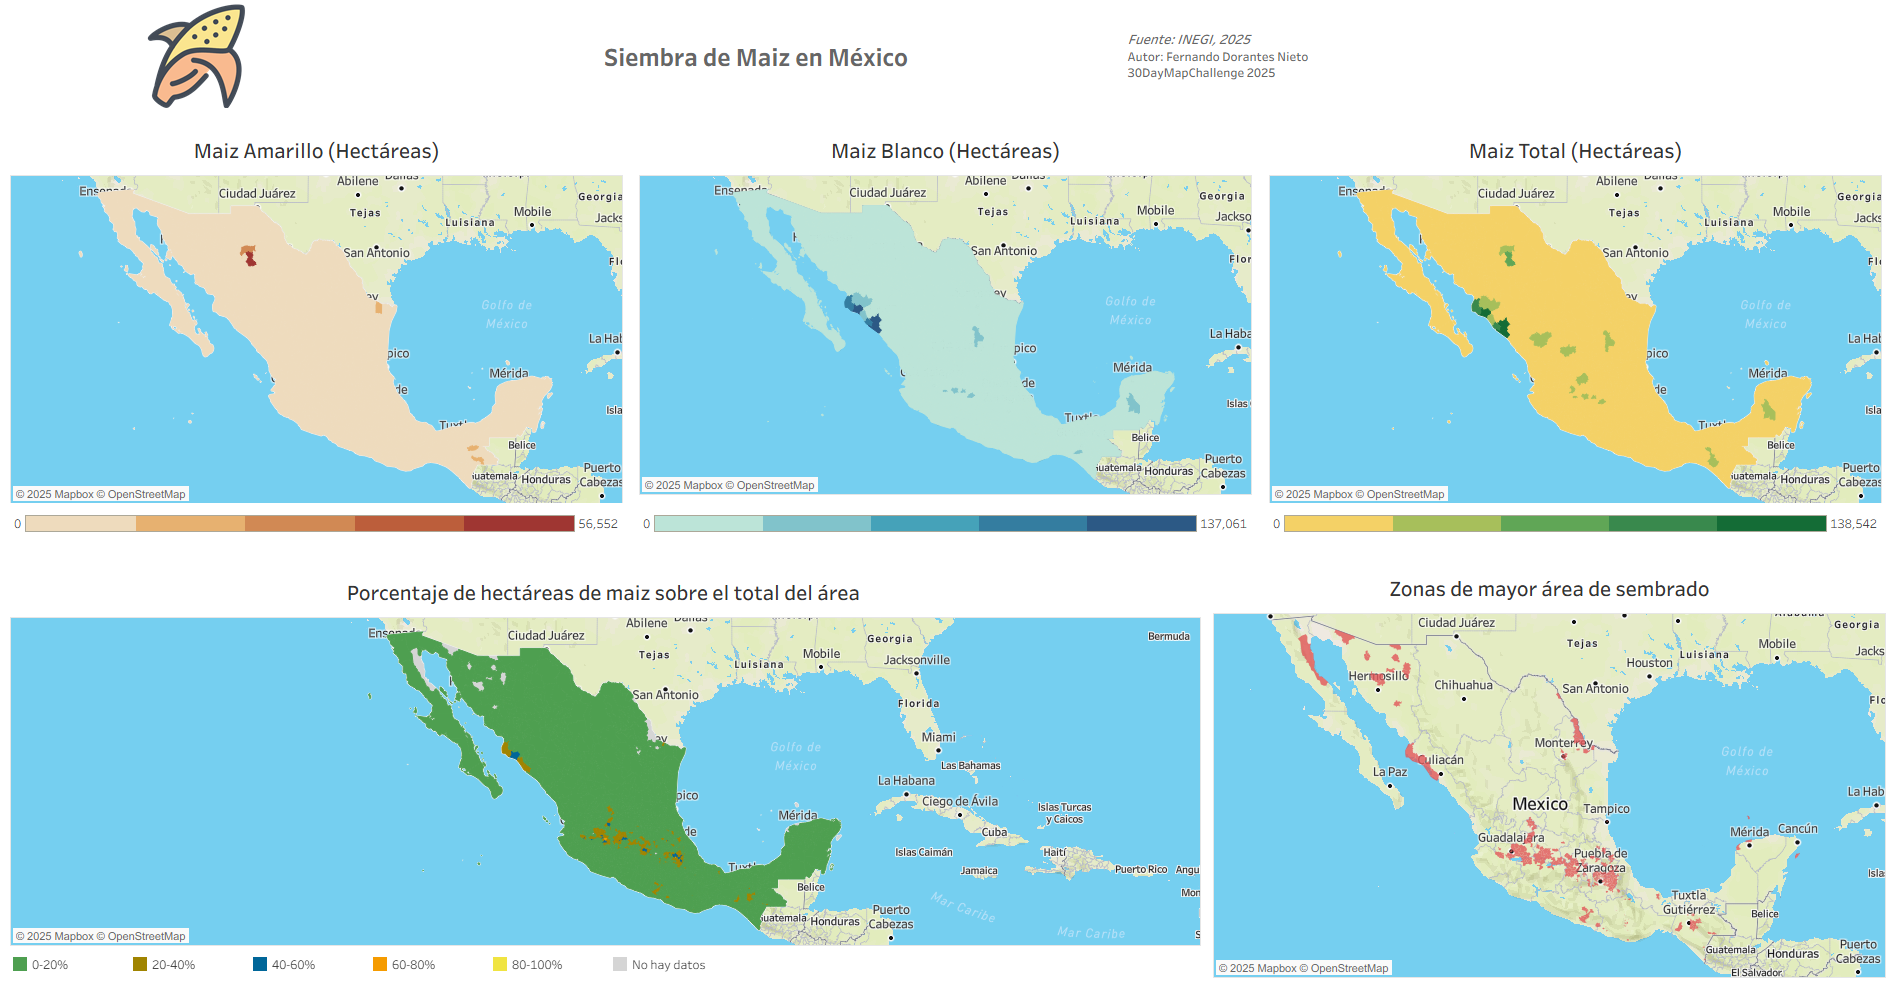

Layout of this report page (visuals, bound fields, positions):
{"tool":"tableau","page":{"name":"Siembra de Maiz Mexico","canvas":[1000,1000],"units":"permille","ordinal":0},"visuals":[{"type":"image","param":"C:/Users/fernando.dorantes/local/Git_repositories/Repo30DayMapChallenge2025/imag","box":[7.9,14,173.7,108.7]},{"type":"text","box":[181.5,14,473.8,108.7]},{"type":"blank","box":[830.3,14,161.9,108.7]},{"type":"text","box":[657.9,18.7,169.7,99.3]},{"type":"worksheet","title":"Maiz Amarillo","mark":"Automatic","box":[13.1,141.3,321.1,364.5]},{"type":"worksheet","title":"Maiz Blanco","mark":"Automatic","box":[339.4,141.3,321.1,364.5]},{"type":"worksheet","title":"Maiz Total","mark":"Automatic","box":[665.8,141.3,321.1,364.5]},{"type":"legend","title":"Maiz Amarillo","param":"[federated.07wqxzq0kq4dq60zs2srb073ushf].[sum:maiz_amarillo:qk]","box":[13.1,505.8,321.1,54.9]},{"type":"legend","title":"Maiz Blanco","param":"[federated.07wqxzq0kq4dq60zs2srb073ushf].[sum:maiz_blanco:qk]","box":[339.4,505.8,321.1,54.9]},{"type":"legend","title":"Maiz Total","param":"[federated.07wqxzq0kq4dq60zs2srb073ushf].[sum:Calculation_399975944098455554:qk]","box":[665.8,505.8,321.1,54.9]},{"type":"worksheet","title":"Porcentaje de sembrado 2","mark":"Automatic","box":[672.6,574.8,316.9,406.6]},{"type":"worksheet","title":"Porcentaje de sembrado","mark":"Automatic","box":[13.1,579.4,656.8,364.5]},{"type":"legend","title":"Porcentaje de sembrado","param":"[federated.07wqxzq0kq4dq60zs2srb073ushf].[none:Calculation_399975944099446790:nk","box":[13.1,943.9,656.8,32.7]}]}

Visuals, with their boxes on the dashboard's canvas, which has no fixed pixel size, in thousandths of its width and height (x1, y1, x2, y2). These are canvas units, not pixel positions in the 1898x993 screenshot, which may show the page scaled, cropped or inside an application window:
image: l=8, t=14, r=182, b=123
text: l=182, t=14, r=655, b=123
blank: l=830, t=14, r=992, b=123
text: l=658, t=19, r=828, b=118
"Maiz Amarillo" worksheet: l=13, t=141, r=334, b=506
"Maiz Blanco" worksheet: l=339, t=141, r=660, b=506
"Maiz Total" worksheet: l=666, t=141, r=987, b=506
"Maiz Amarillo" legend: l=13, t=506, r=334, b=561
"Maiz Blanco" legend: l=339, t=506, r=660, b=561
"Maiz Total" legend: l=666, t=506, r=987, b=561
"Porcentaje de sembrado 2" worksheet: l=673, t=575, r=990, b=981
"Porcentaje de sembrado" worksheet: l=13, t=579, r=670, b=944
"Porcentaje de sembrado" legend: l=13, t=944, r=670, b=977
